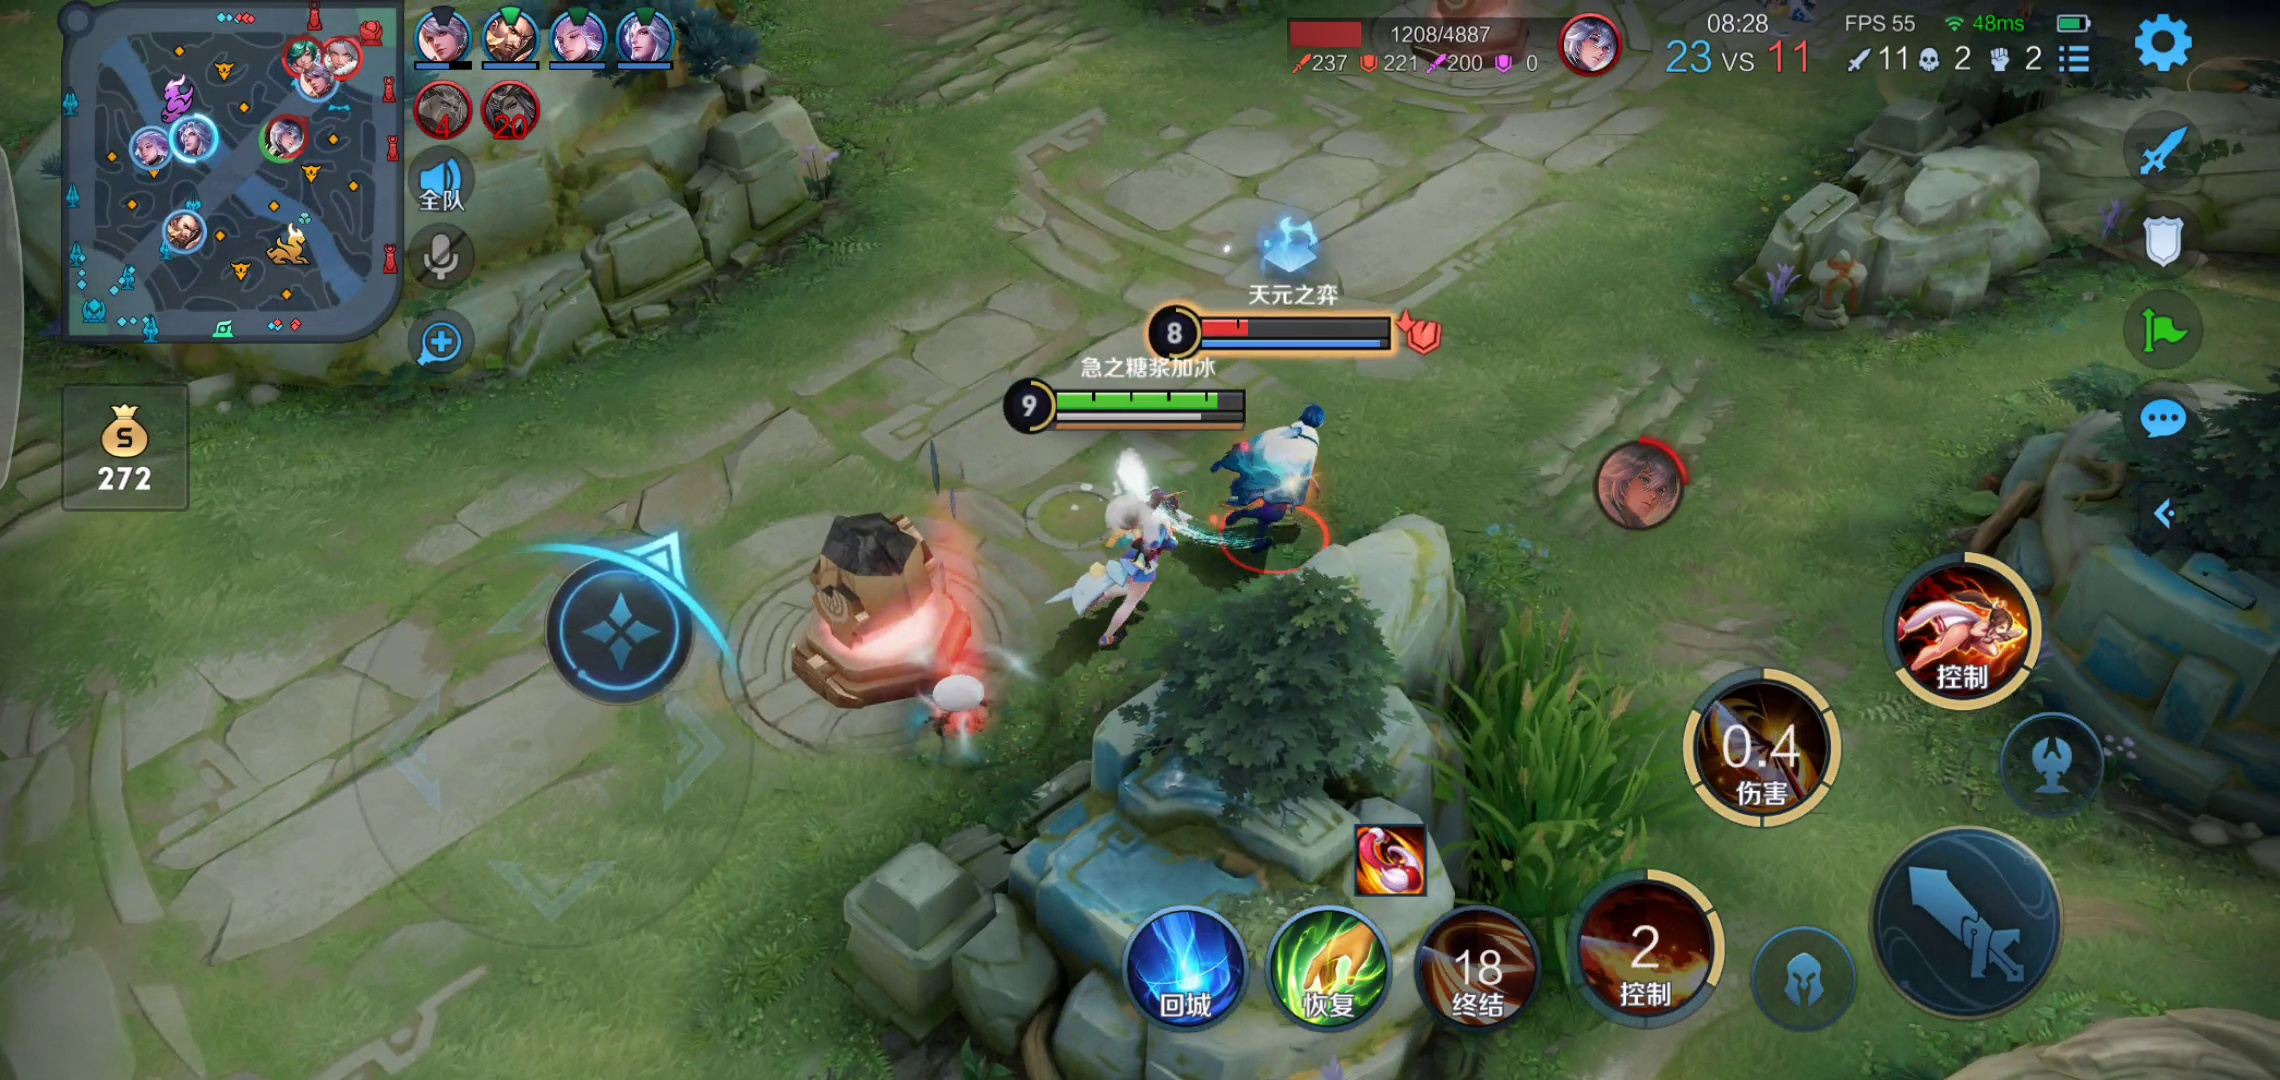grass: (1421, 605, 1666, 940)
hero: (1208, 406, 1352, 570), (1076, 472, 1207, 648)
tower: (785, 496, 983, 733)
